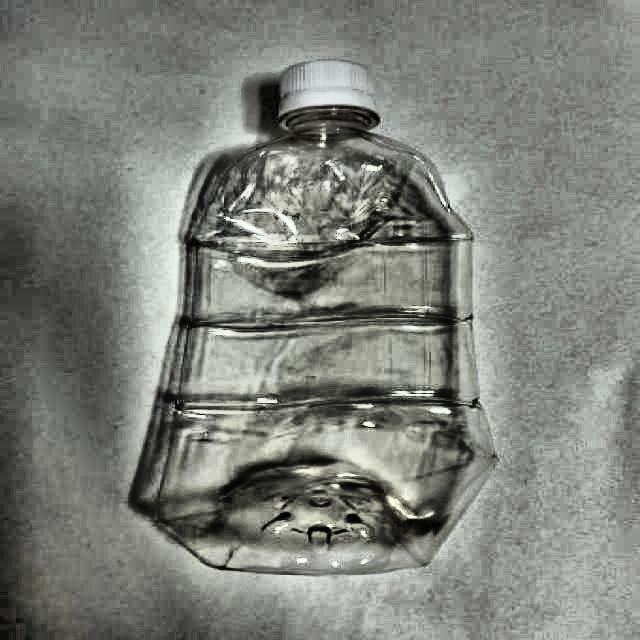plastic bottle: (132, 61, 497, 576)
